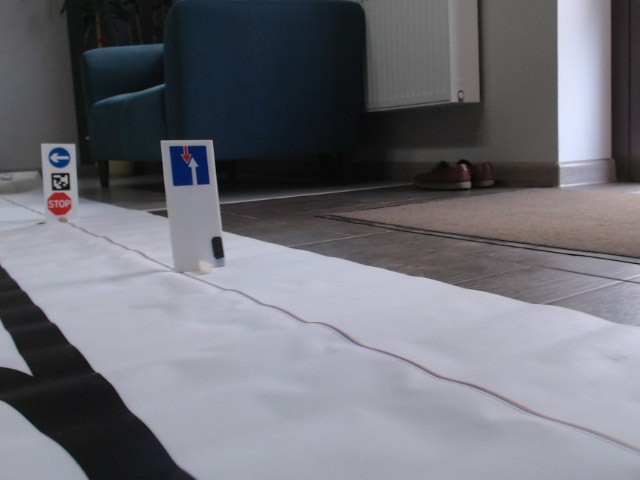Stop: (46, 192, 72, 215)
priority_movement: (168, 144, 211, 188)
